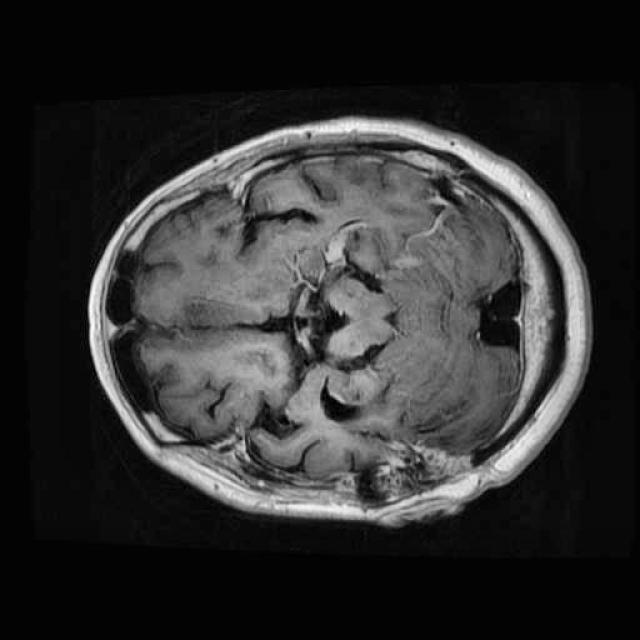Tumor: (317, 427, 495, 522)
